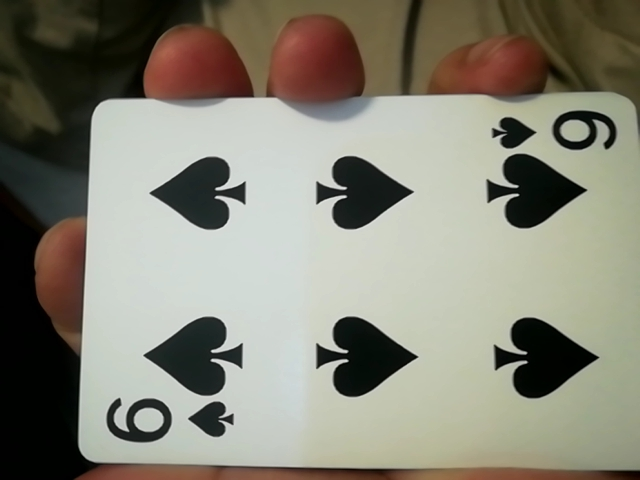ht 6: (53, 96, 634, 480)
